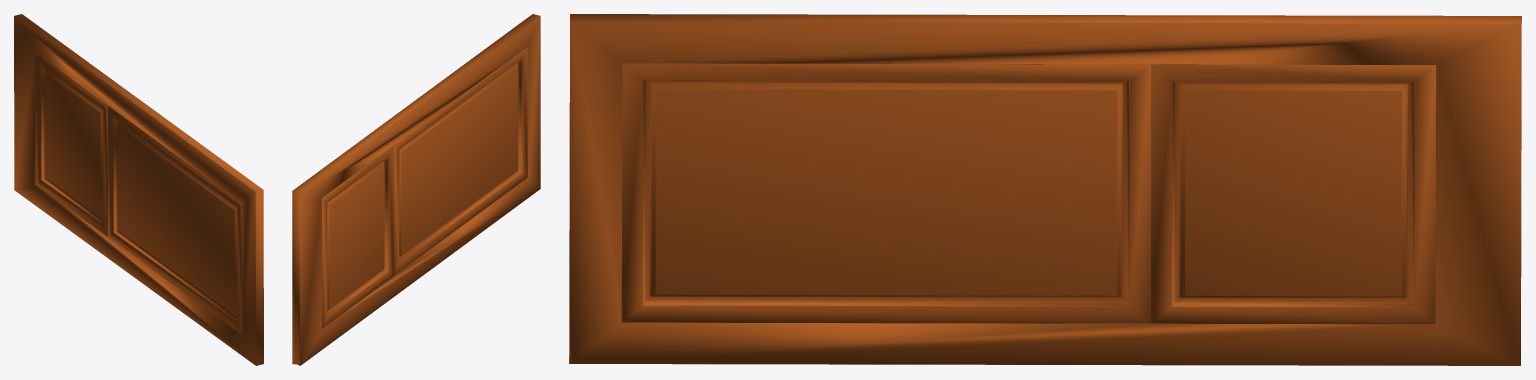
File: door2.obj
The picture shows the model from 3 angles, left to right: view 1: azimuth 30°, elevation 25°; view 2: azimuth 150°, elevation 25°; view 3: azimuth 270°, elevation 25°; orthographic projection. The views are drawn at different scales.
Visible parts, largest first — view 1: Door_Sheet001; view 2: Door_Sheet001; view 3: Door_Sheet001.
Boxes of the visible parts, <box> form: Door_Sheet001: <box>14,14,263,365</box>; Door_Sheet001: <box>292,14,540,365</box>; Door_Sheet001: <box>569,14,1521,365</box>.
Size of the model in its own units: 0.04 by 0.8 by 2.
